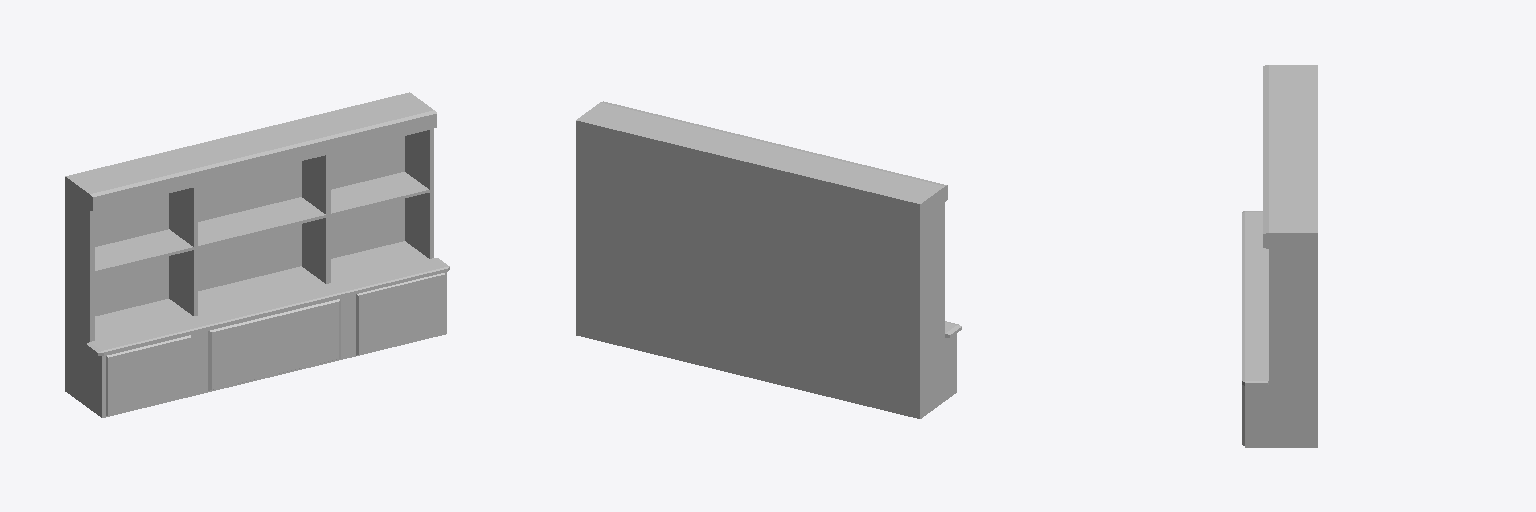
File: BIGShelf.obj
3 views of the same model, side by side, from view 1: azimuth 30°, elevation 25°; view 2: azimuth 150°, elevation 25°; view 3: azimuth 270°, elevation 25° (orthographic).
Visible parts, largest first — view 1: Cube; view 2: Cube; view 3: Cube.
Part boxes in pixels (x1,y1,x2,y2): Cube: (65,92,449,417); Cube: (576,101,961,418); Cube: (1242,65,1317,447).
Size of the model in its own units: 22.91 by 13.36 by 4.33.